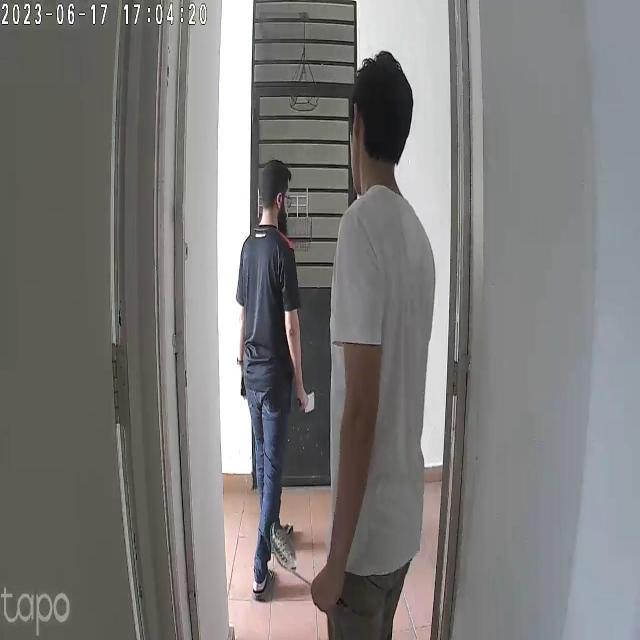Knife: (302, 387, 326, 424)
